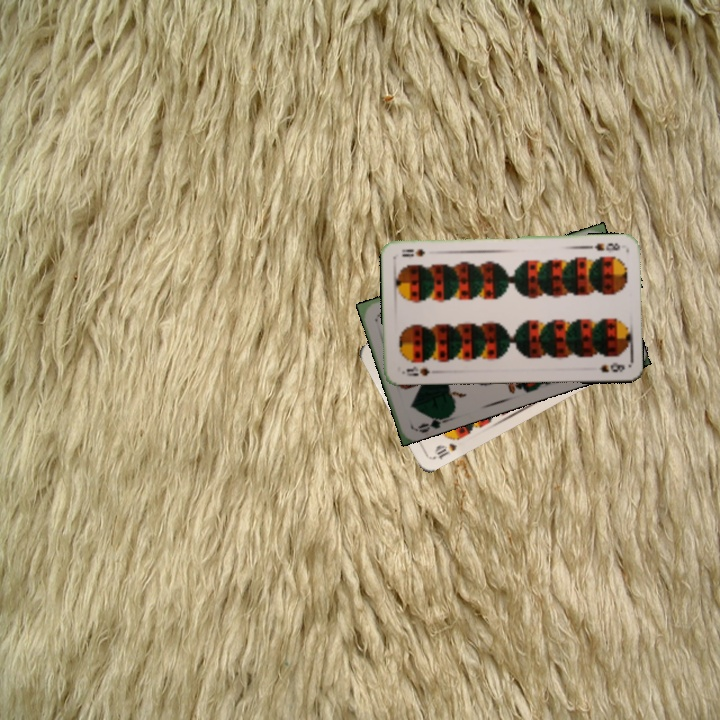GO: (413, 410, 453, 435)
S10: (431, 439, 459, 462)
S8: (591, 239, 622, 255), (402, 362, 432, 378)
